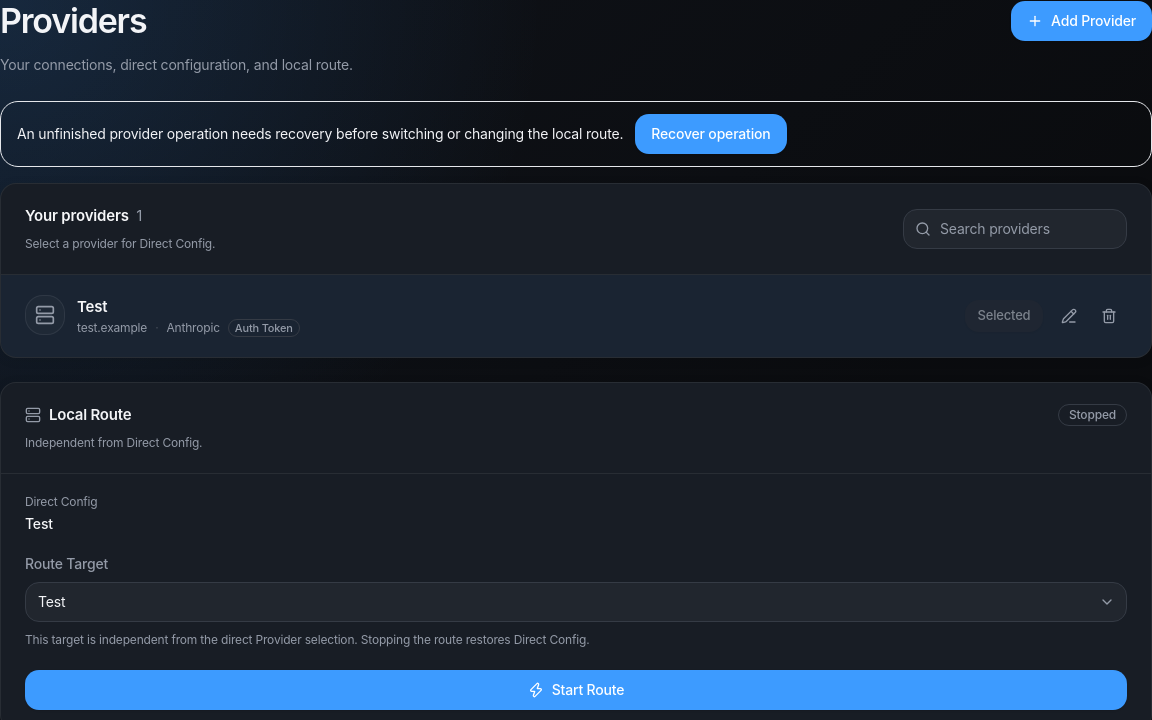
Test case: offers recovery for an interrupted save and refreshes the resulting state
What coordinates should you click on to do the following:
click the button "Recover operation"
I would click on:
 (711, 134)
Its box is [635, 114, 787, 154].
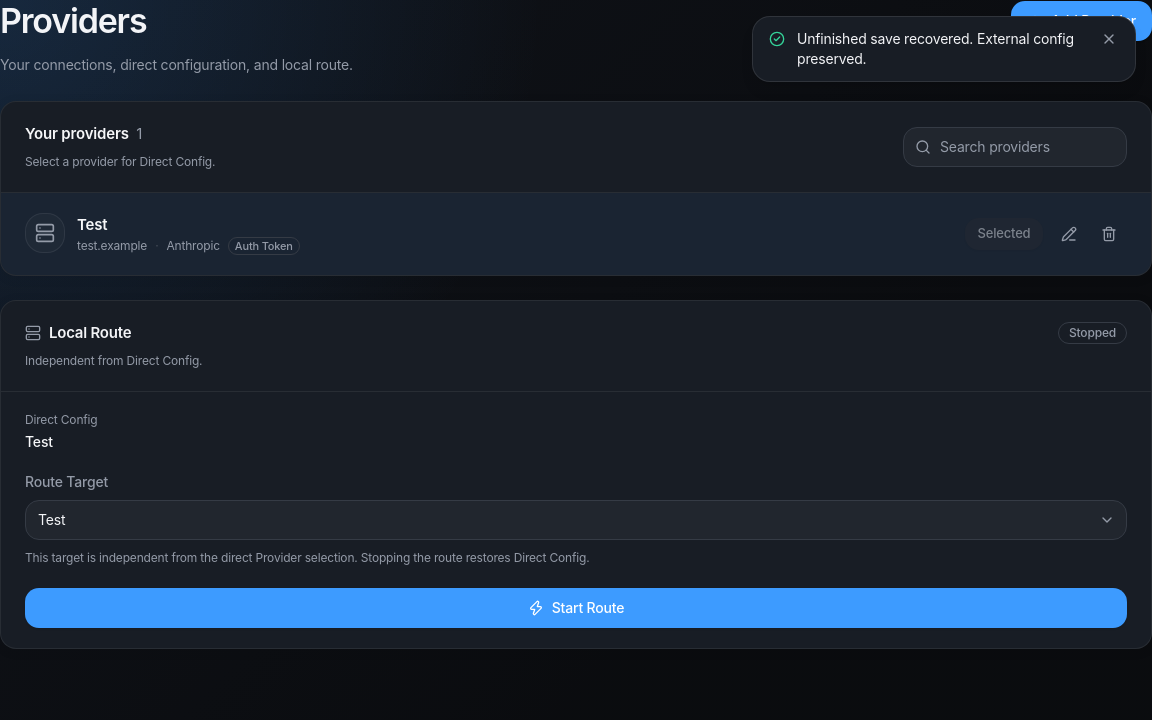
expect the message reads "Unfinished save recovered. External config preserved.": met, box [797, 30, 1074, 67]
expect the button "Recover operation" is gone: met
